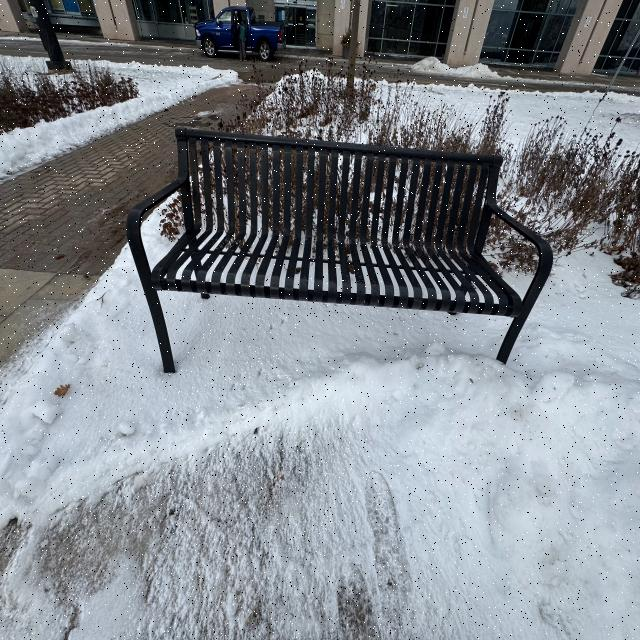Bench: (129, 121, 554, 360)
